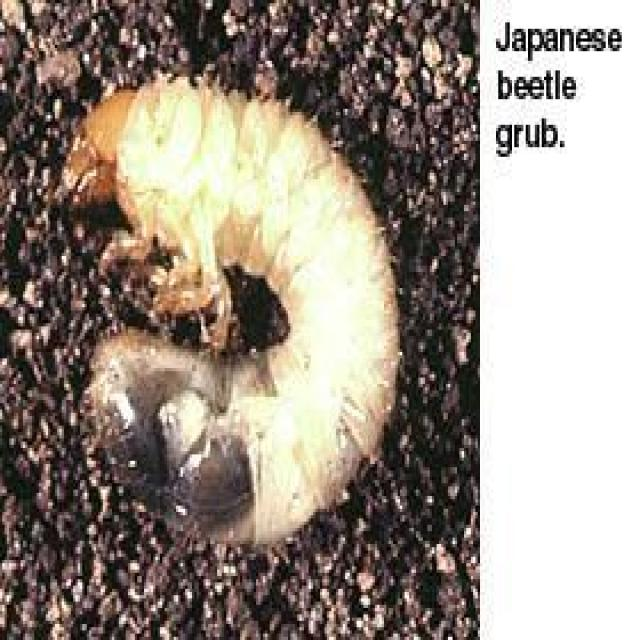Grub-Adult-: (46, 68, 399, 558)
